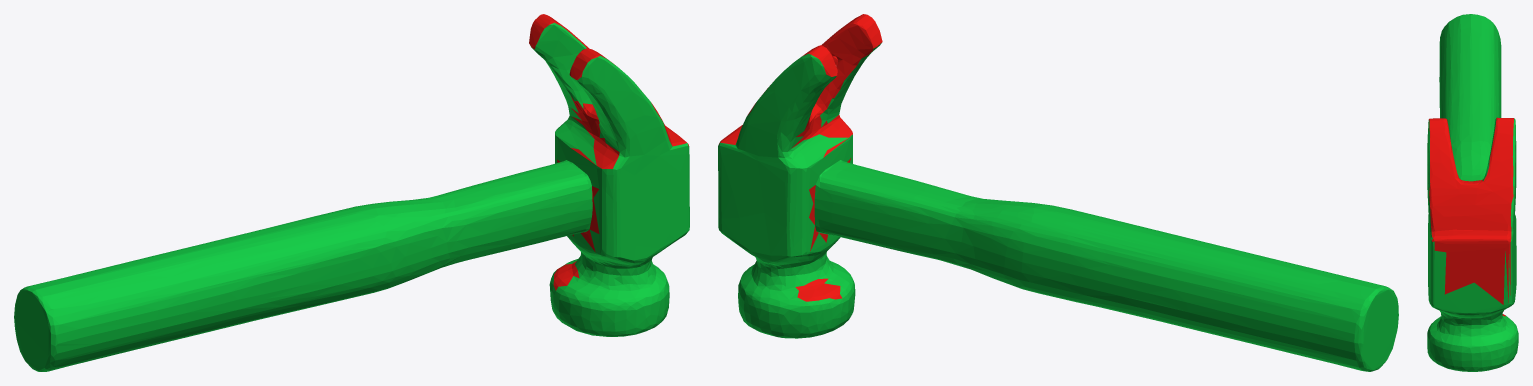
File: claw_hammer.obj
3 views of the same model, side by side, from view 1: azimuth 30°, elevation 25°; view 2: azimuth 150°, elevation 25°; view 3: azimuth 270°, elevation 25° (orthographic). The views are drawn at different scales.
Size of the model in its own units: 0.195 by 0.086 by 0.032.
